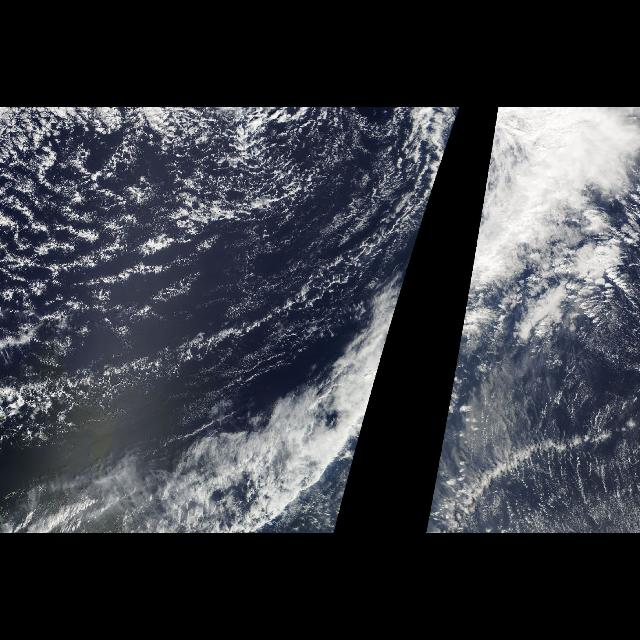Gravel: (2, 144, 278, 422)
Sugar: (17, 155, 331, 355), (452, 348, 640, 532)
